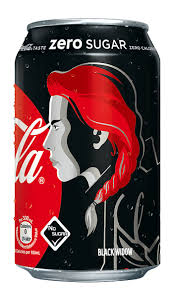coke-can-zero: (9, 17, 165, 279)
